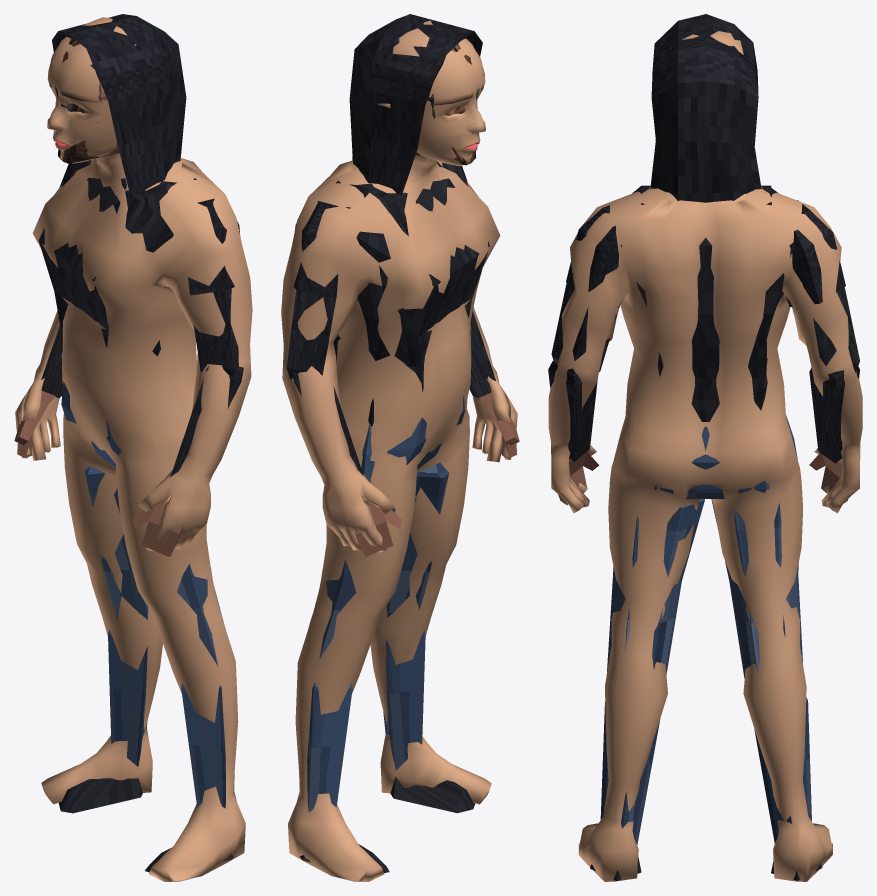
The model's file is human1.fbx.
3 renders of one model, left to right at view 1: azimuth 30°, elevation 25°; view 2: azimuth 150°, elevation 25°; view 3: azimuth 270°, elevation 25°, orthographic.
Visible parts, largest first — view 1: body, Cube.009, Cube, Cube.007, Cube.006, Cylinder.001, Cube.011, Cylinder.002, Cylinder.003, Cube.003, Cube.005, Cube.008 (+3 smaller); view 2: body, Cube.009, Cube, Cube.006, Cylinder.000, Cube.007, Cylinder.003, Cube.010, Cube.001, Cube.005, Cylinder.002, Cube.004 (+3 smaller); view 3: body, Cube.009, Cube, Cylinder.003, Cylinder.000, Cylinder.002, Cylinder.001, Cube.002, Cube.005, Cube.006, Cube.007, Cube.001 (+1 smaller).
Part boxes in pixels (x1,y1,x2,y2): body: (15, 17, 252, 881); Cube.009: (52, 14, 186, 200); Cube: (38, 160, 196, 356); Cube.007: (108, 630, 147, 766); Cube.006: (181, 683, 225, 808); Cylinder.001: (188, 198, 239, 376); Cube.011: (58, 778, 142, 813); Cylinder.002: (84, 466, 148, 619); Cylinder.003: (114, 489, 223, 665); Cube.003: (133, 496, 183, 556); Cube.005: (170, 366, 243, 476); Cube.008: (55, 38, 119, 163); body: (281, 20, 517, 881); Cube.009: (349, 14, 482, 195); Cube: (333, 161, 489, 426); Cube.006: (383, 630, 425, 770); Cylinder.000: (286, 200, 350, 379); Cube.007: (307, 682, 352, 812); Cylinder.003: (386, 462, 449, 617); Cube.010: (390, 777, 475, 813); Cube.001: (361, 395, 465, 481); Cube.005: (469, 311, 495, 398); Cylinder.002: (314, 495, 416, 659); Cube.004: (353, 499, 401, 556); body: (548, 31, 862, 881); Cube.009: (650, 14, 761, 202); Cube: (620, 185, 794, 421); Cylinder.003: (606, 499, 704, 674); Cylinder.000: (786, 200, 859, 380); Cylinder.002: (712, 490, 802, 678); Cylinder.001: (551, 205, 625, 375); Cube.002: (809, 366, 859, 463); Cube.005: (548, 358, 597, 461); Cube.006: (600, 701, 660, 844); Cube.007: (754, 697, 811, 843); Cube.001: (654, 415, 797, 498).
Size of the model in its own units: 212 by 1096 by 385.
